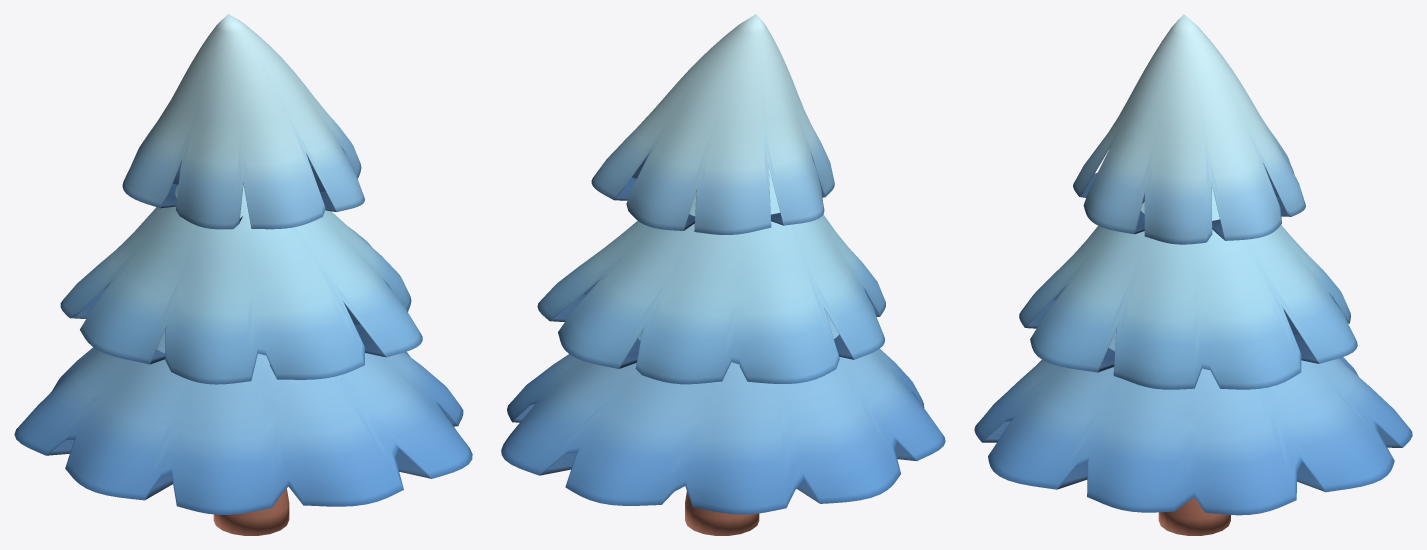
File: bank_pine_1.glb
The picture shows the model from 3 angles, left to right: view 1: azimuth 30°, elevation 25°; view 2: azimuth 150°, elevation 25°; view 3: azimuth 270°, elevation 25°; orthographic projection. The views are drawn at different scales.
Visible parts, largest first — view 1: bank_pine_1; view 2: bank_pine_1; view 3: bank_pine_1.
Boxes of the visible parts, <box> form: bank_pine_1: <box>14,14,472,535</box>; bank_pine_1: <box>501,14,945,535</box>; bank_pine_1: <box>974,14,1412,535</box>.
Size of the model in its own units: 2.47 by 3.17 by 2.55.
3 materials, 3 textured.
